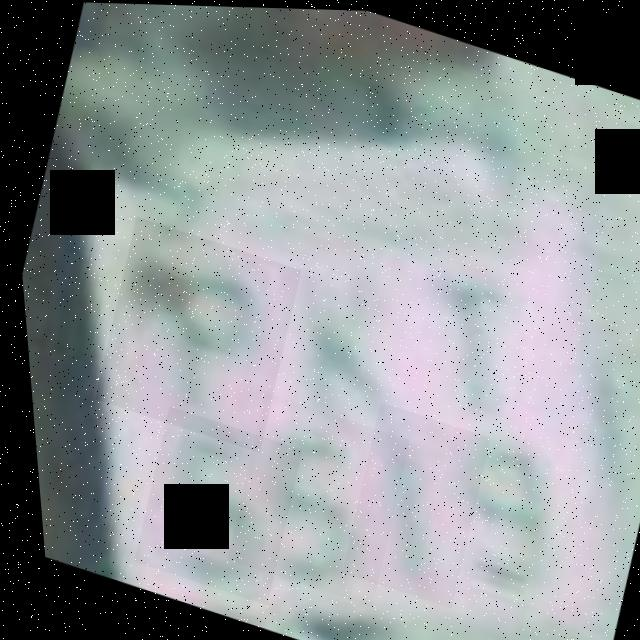1: (321, 398, 494, 607)
5: (206, 390, 413, 605), (114, 404, 304, 605)
9: (398, 398, 601, 614)
P: (76, 214, 308, 453)
T: (370, 230, 567, 446)
